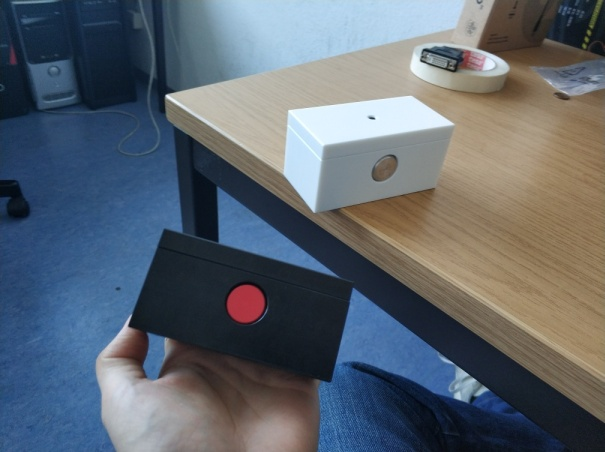black+black+red: (126, 230, 363, 383)
white+white+silver: (282, 93, 458, 214)
